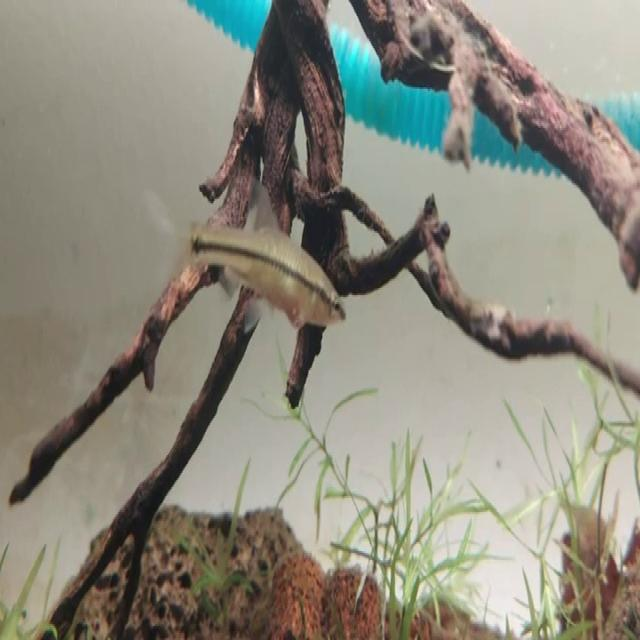Cakil Baligi: (147, 184, 348, 332)
